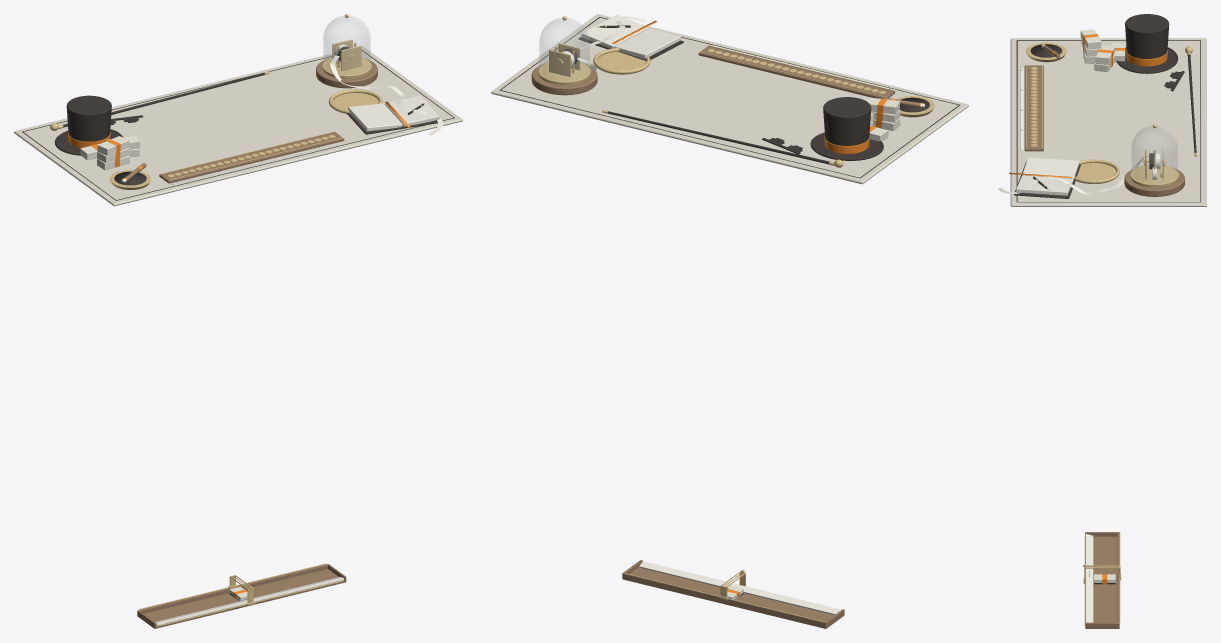
The model's file is desk.glb.
The picture shows the model from 3 angles, left to right: view 1: azimuth 30°, elevation 25°; view 2: azimuth 150°, elevation 25°; view 3: azimuth 270°, elevation 25°; orthographic projection. The views are drawn at different scales.
Parts seen in each view (by area): view 1: Blotter, Ticker.Dome, Tray.Base, Hat.Crown, Chart.Plinth, Ledger.Page.L, Tray.Back, Ledger.Page.R, Tray.Scale, Ticker.Base; view 2: Blotter, Ticker.Dome, Hat.Crown, Chart.Plinth, Tray.Base, Tray.Scale, Tray.Back, Ledger.Page.L, Ledger.Page.R, Ticker.Base, Cane.Shaft, Dish.Plate; view 3: Blotter, Ticker.Dome, Tray.Base, Hat.Crown, Chart.Plinth, Ledger.Page.L, Ledger.Page.R, Tray.Scale, Ticker.Base, Ticker.DomeFoot, Dish.Plate, Ticker.Tape (+6 smaller).
Boxes of the visible parts, x1=… form: Blotter: x1=14, y1=46, x2=462, y2=206; Ticker.Dome: x1=323, y1=15, x2=370, y2=74; Tray.Base: x1=144, y1=569, x2=345, y2=628; Hat.Crown: x1=66, y1=95, x2=111, y2=141; Chart.Plinth: x1=159, y1=132, x2=344, y2=183; Ledger.Page.L: x1=348, y1=103, x2=402, y2=131; Tray.Back: x1=137, y1=564, x2=328, y2=615; Ledger.Page.R: x1=385, y1=95, x2=439, y2=126; Tray.Scale: x1=155, y1=577, x2=343, y2=625; Ticker.Base: x1=316, y1=58, x2=377, y2=88; Blotter: x1=491, y1=14, x2=968, y2=184; Ticker.Dome: x1=539, y1=18, x2=589, y2=80; Hat.Crown: x1=823, y1=97, x2=871, y2=145; Chart.Plinth: x1=698, y1=46, x2=895, y2=98; Tray.Base: x1=624, y1=567, x2=834, y2=627; Tray.Scale: x1=639, y1=561, x2=841, y2=614; Tray.Back: x1=622, y1=573, x2=826, y2=628; Ledger.Page.L: x1=614, y1=28, x2=680, y2=58; Ledger.Page.R: x1=581, y1=14, x2=648, y2=48; Ticker.Base: x1=531, y1=64, x2=597, y2=95; Cane.Shaft: x1=607, y1=111, x2=829, y2=164; Dish.Plate: x1=597, y1=51, x2=646, y2=74; Blotter: x1=1010, y1=38, x2=1206, y2=206; Ticker.Dome: x1=1131, y1=126, x2=1177, y2=183; Tray.Base: x1=1086, y1=536, x2=1118, y2=628; Hat.Crown: x1=1125, y1=14, x2=1169, y2=58; Chart.Plinth: x1=1024, y1=65, x2=1043, y2=151; Ledger.Page.L: x1=1022, y1=157, x2=1079, y2=180; Ledger.Page.R: x1=1016, y1=175, x2=1073, y2=195; Tray.Scale: x1=1085, y1=534, x2=1093, y2=622; Ticker.Base: x1=1124, y1=168, x2=1184, y2=196; Ticker.DomeFoot: x1=1130, y1=165, x2=1178, y2=185; Dish.Plate: x1=1077, y1=162, x2=1116, y2=183; Ticker.Tape: x1=997, y1=155, x2=1149, y2=194.
Bounding box in the file's own units: 31 × 45.22 × 16.48.
